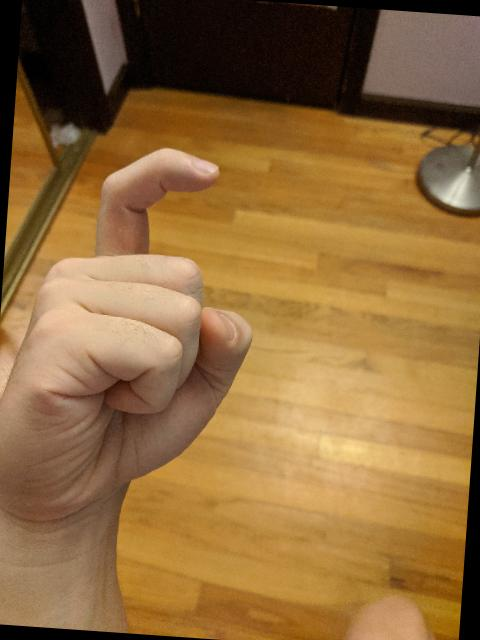X: (0, 130, 271, 538)
